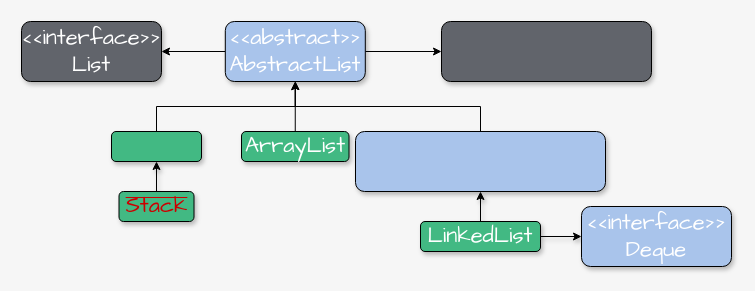
The diagram is 755 pixels wide and 291 high, and some of its shapes have lost their labels. Here are the shapes that lost their labels. From the top down, the centre of each, then its label:
point (547, 52): <<abstract>> AbstractCollection
point (157, 147): Vector
point (481, 162): <<abstract>> AbstractSequentialList
